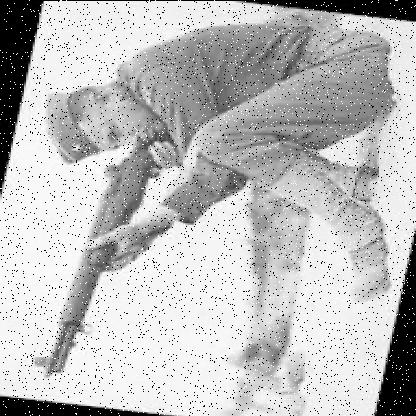rifle: (21, 118, 188, 390)
